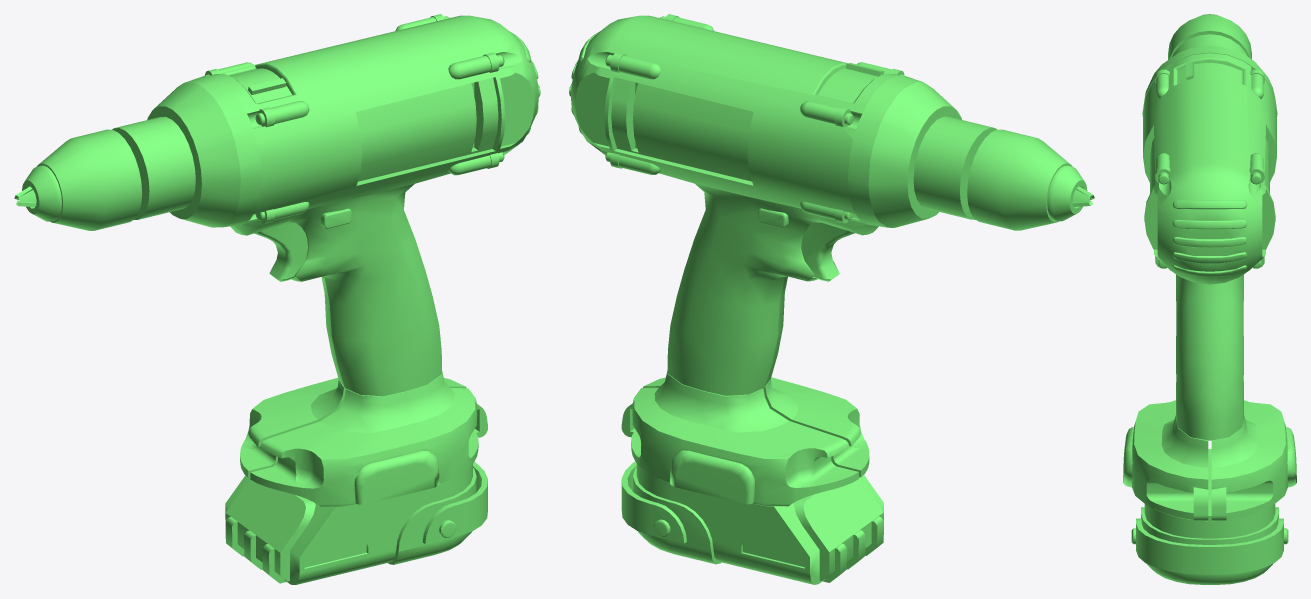
The model's file is SM_ElectricDrill_01a.FBX.
3 renders of one model, left to right at view 1: azimuth 30°, elevation 25°; view 2: azimuth 150°, elevation 25°; view 3: azimuth 270°, elevation 25°, orthographic. The views are drawn at different scales.
Parts seen in each view (by area): view 1: SM_ElectricDrill_01a_SM_ElectricDrill_LOD0; view 2: SM_ElectricDrill_01a_SM_ElectricDrill_LOD0; view 3: SM_ElectricDrill_01a_SM_ElectricDrill_LOD0.
Boxes of the visible parts, bbox=[...] form: SM_ElectricDrill_01a_SM_ElectricDrill_LOD0: bbox=[14, 14, 540, 584]; SM_ElectricDrill_01a_SM_ElectricDrill_LOD0: bbox=[569, 14, 1094, 584]; SM_ElectricDrill_01a_SM_ElectricDrill_LOD0: bbox=[1123, 14, 1296, 584].
Size of what is drawn, in the model's own units: 27.08 by 25.14 by 9.09.
